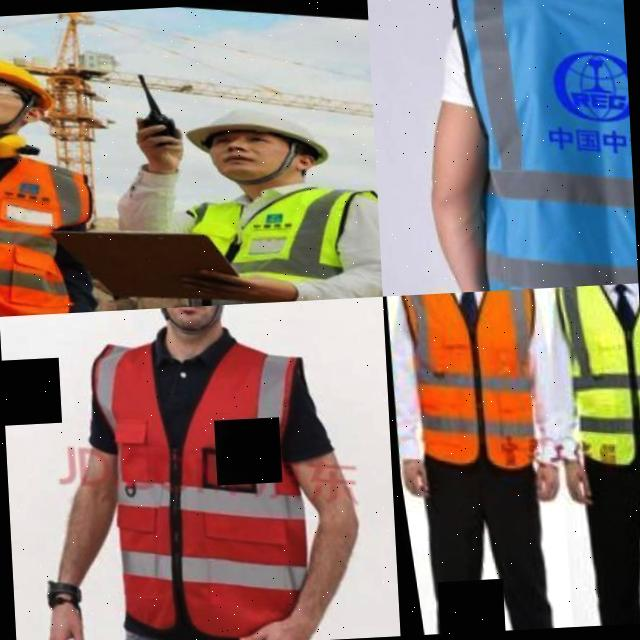vest: (63, 323, 320, 640), (422, 0, 638, 293), (383, 288, 544, 478), (171, 182, 383, 308), (0, 105, 82, 316), (547, 283, 640, 468)
